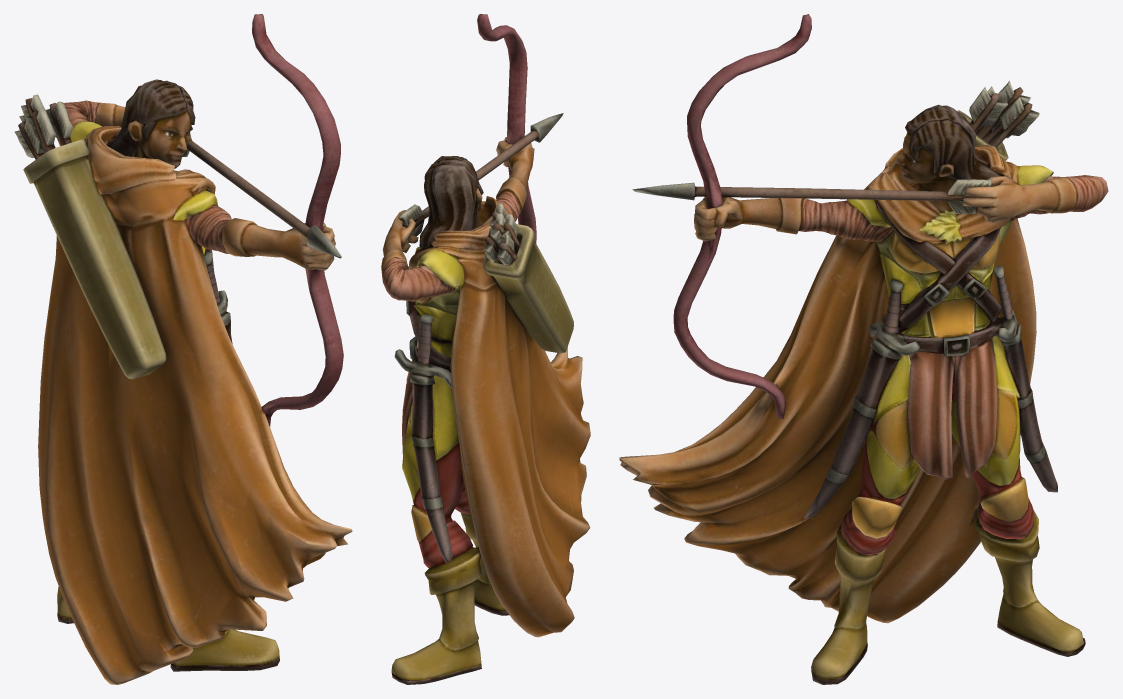
File: MZ4250 - Scout Female 02.glb
3 renders of one model, left to right at view 1: azimuth 30°, elevation 25°; view 2: azimuth 150°, elevation 25°; view 3: azimuth 270°, elevation 25°, orthographic. The views are drawn at different scales.
Visible parts, largest first — view 1: ScoutFemale01; view 2: ScoutFemale01; view 3: ScoutFemale01.
Boxes of the visible parts, left/top/right/bottom form: ScoutFemale01: left=14, top=14, right=352, bottom=684; ScoutFemale01: left=381, top=14, right=590, bottom=684; ScoutFemale01: left=619, top=14, right=1108, bottom=684.
Size of the model in its own units: 0.3454 by 1.3 by 0.8729.
Materials: 1 (1 with a texture image).
